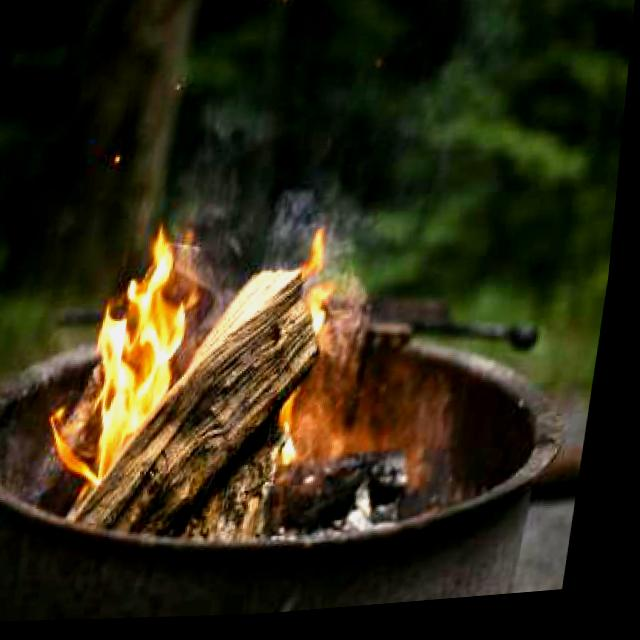Fire: (63, 230, 209, 495), (270, 216, 354, 470)
